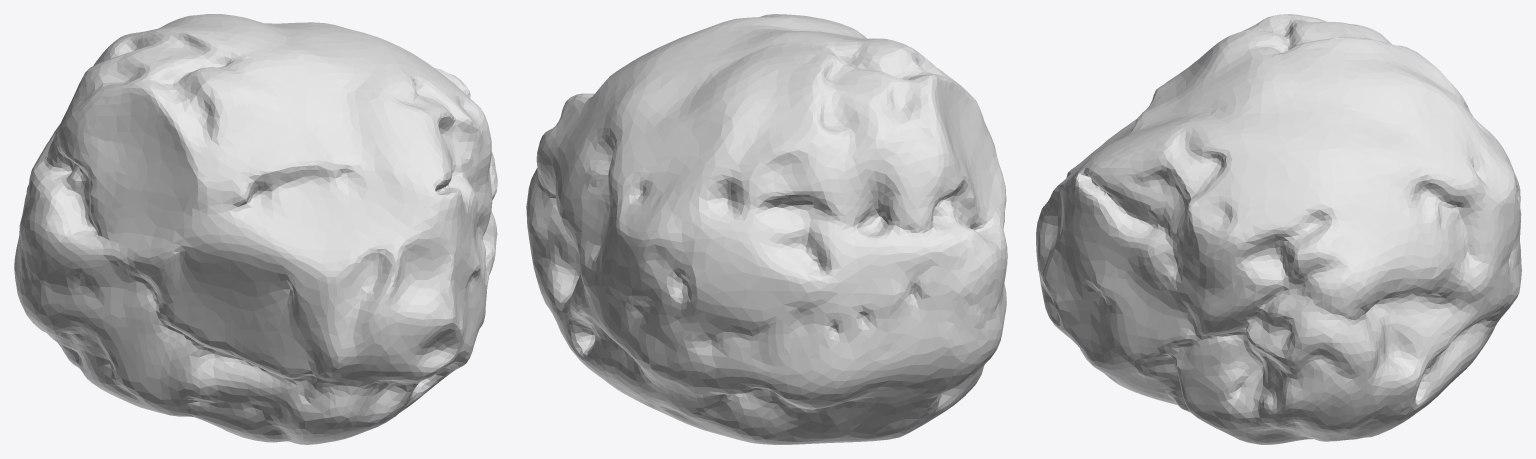
The model's file is boulder01.glb.
3 renders of one model, left to right at view 1: azimuth 30°, elevation 25°; view 2: azimuth 150°, elevation 25°; view 3: azimuth 270°, elevation 25°, orthographic. The views are drawn at different scales.
Parts seen in each view (by area): view 1: Low; view 2: Low; view 3: Low.
Boxes of the visible parts, x1,y1,x2,y2 form: Low: (14,14,497,444); Low: (526,14,1007,444); Low: (1036,14,1521,444).
Size of the model in its own units: 1.99 by 1.49 by 1.96.
1 material, 1 textured.
